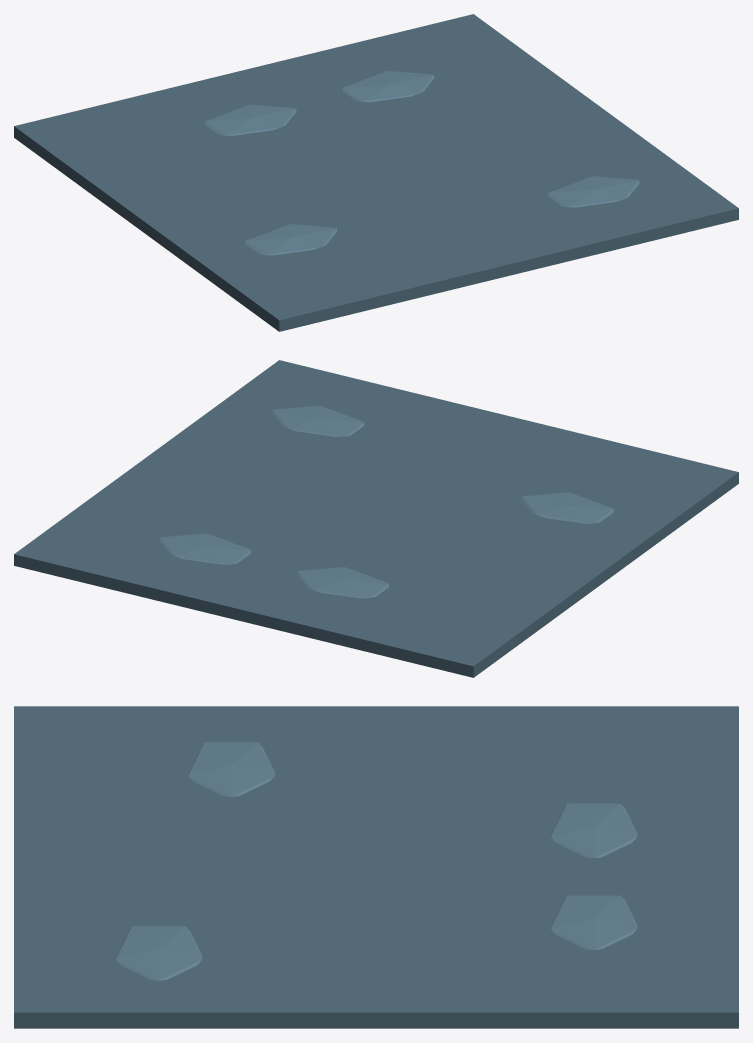
Rendered from SH10_L10_Ground.fbx.
The picture shows the model from 3 angles, top to bottom: view 1: azimuth 30°, elevation 25°; view 2: azimuth 150°, elevation 25°; view 3: azimuth 270°, elevation 25°; orthographic projection. The views are drawn at different scales.
Visible parts, largest first — view 1: SH10_L10_Ground; view 2: SH10_L10_Ground; view 3: SH10_L10_Ground.
Boxes of the visible parts, x1,y1,x2,y2 form: SH10_L10_Ground: (14, 14, 738, 331); SH10_L10_Ground: (14, 360, 738, 677); SH10_L10_Ground: (14, 706, 738, 1028).
Size of the model in its own units: 1000 by 28.5 by 1000.
